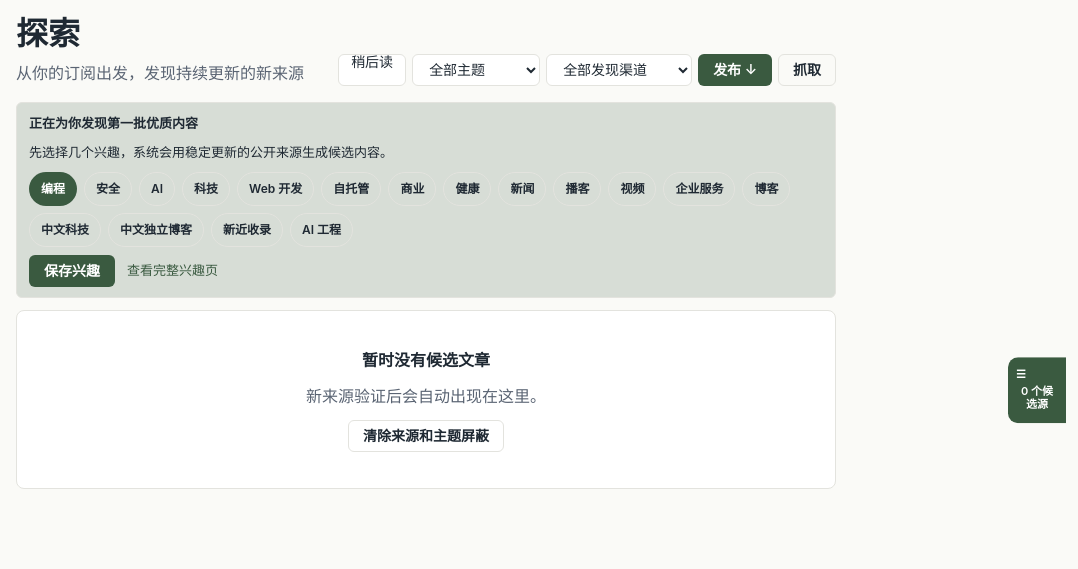
ExplorePage › lets a cold-start user choose fixed interests and retry saving them inline
The image size is (1078, 569).
Expected: the element named "选择探索兴趣" is shown, [29,172,823,247]
Click the button "安全" at x=108, y=189, box [84,172,132,206]
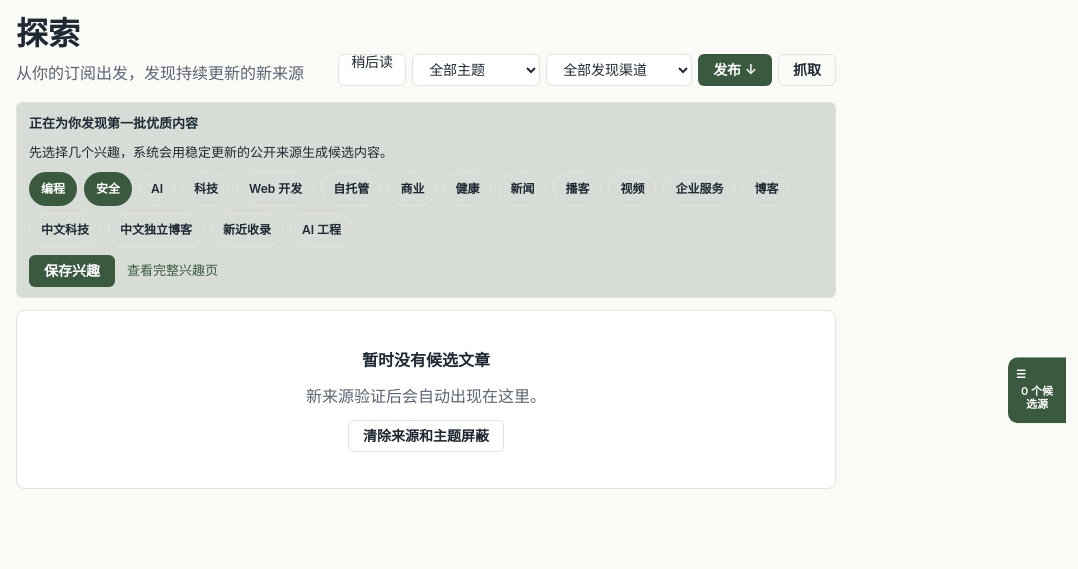
Click the button "保存兴趣" at x=72, y=271, box [29,255,115,287]
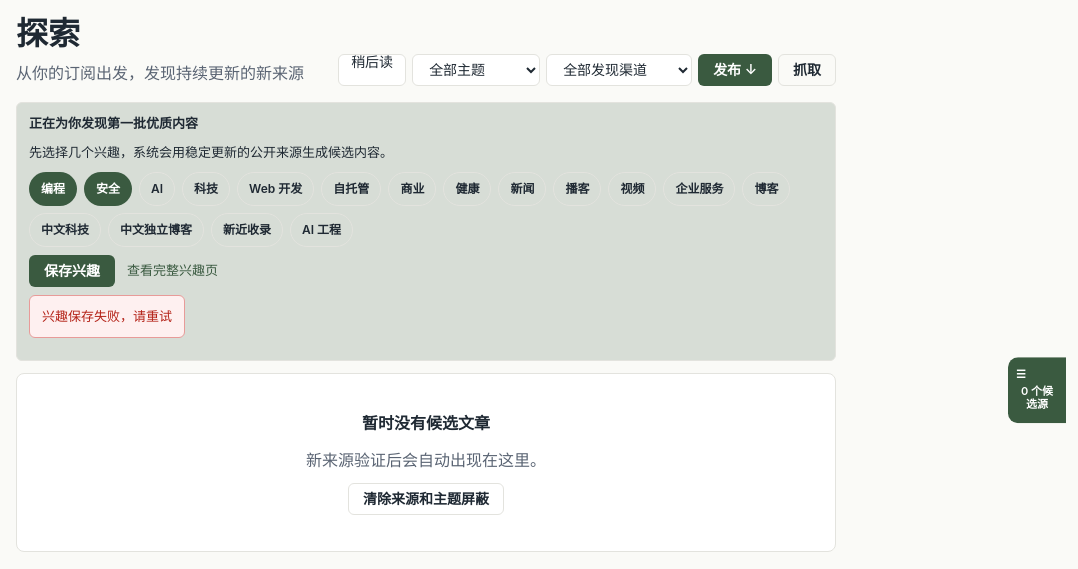
Now the message shows "兴趣保存失败", box [42,308,172,324]
Click the button "保存兴趣" at x=72, y=271, box [29,255,115,287]
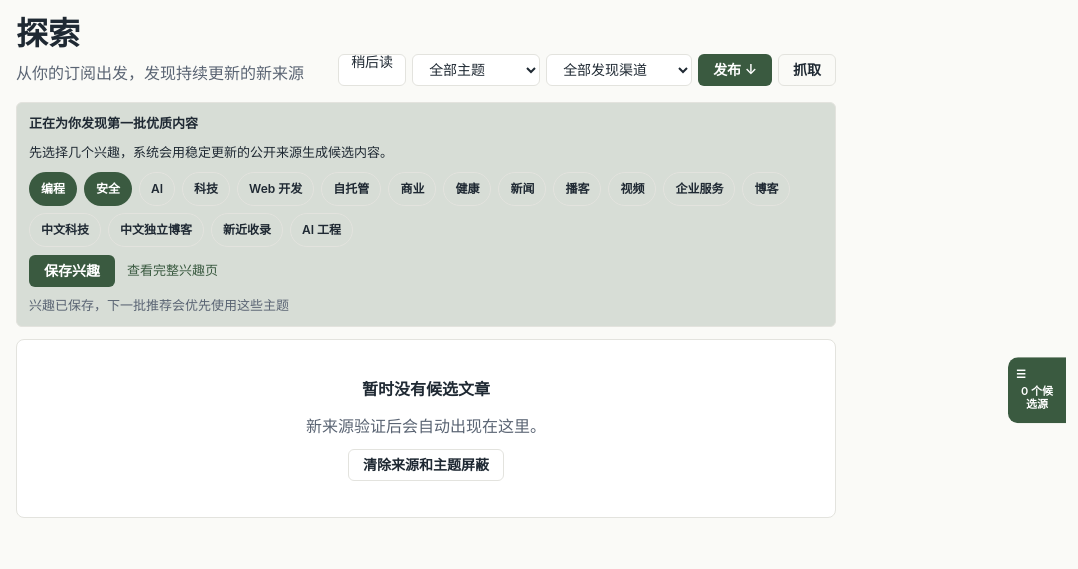
Now the message shows "兴趣已保存", box [29,297,289,313]
